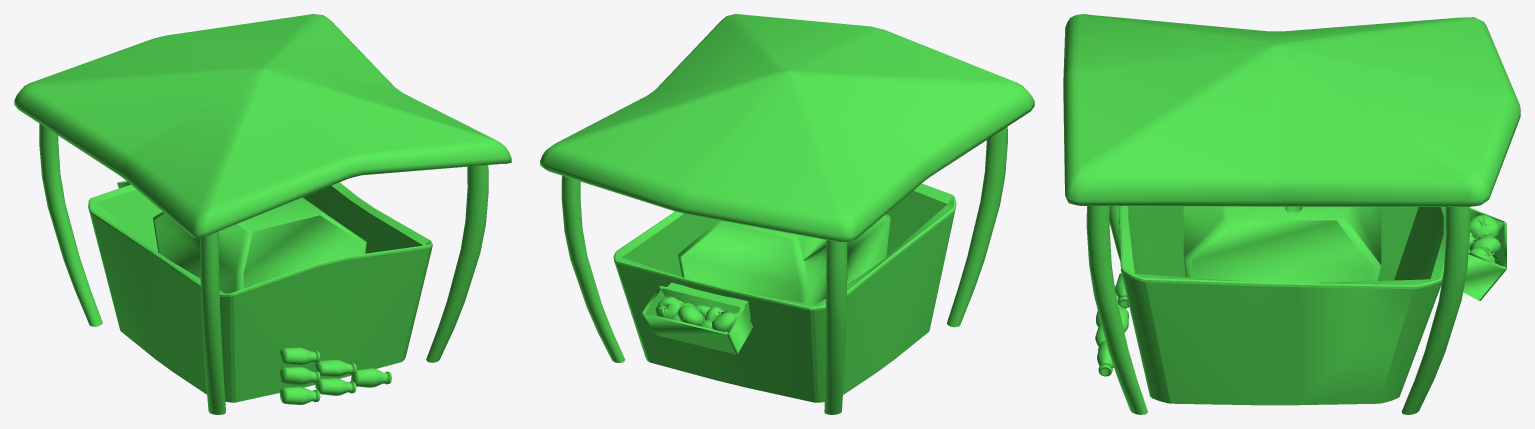
File: MOD_BottleGame.FBX
The picture shows the model from 3 angles, left to right: view 1: azimuth 30°, elevation 25°; view 2: azimuth 150°, elevation 25°; view 3: azimuth 270°, elevation 25°; orthographic projection. The views are drawn at different scales.
Visible parts, largest first — view 1: MOD_BottleGame; view 2: MOD_BottleGame; view 3: MOD_BottleGame.
Boxes of the visible parts, left/top/right/bottom form: MOD_BottleGame: left=14, top=14, right=511, bottom=414; MOD_BottleGame: left=540, top=14, right=1034, bottom=414; MOD_BottleGame: left=1063, top=14, right=1520, bottom=414.
Bounding box in the file's own units: 4.34 × 3.58 × 4.87.
